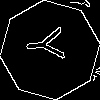Y: (25, 25, 74, 64)
